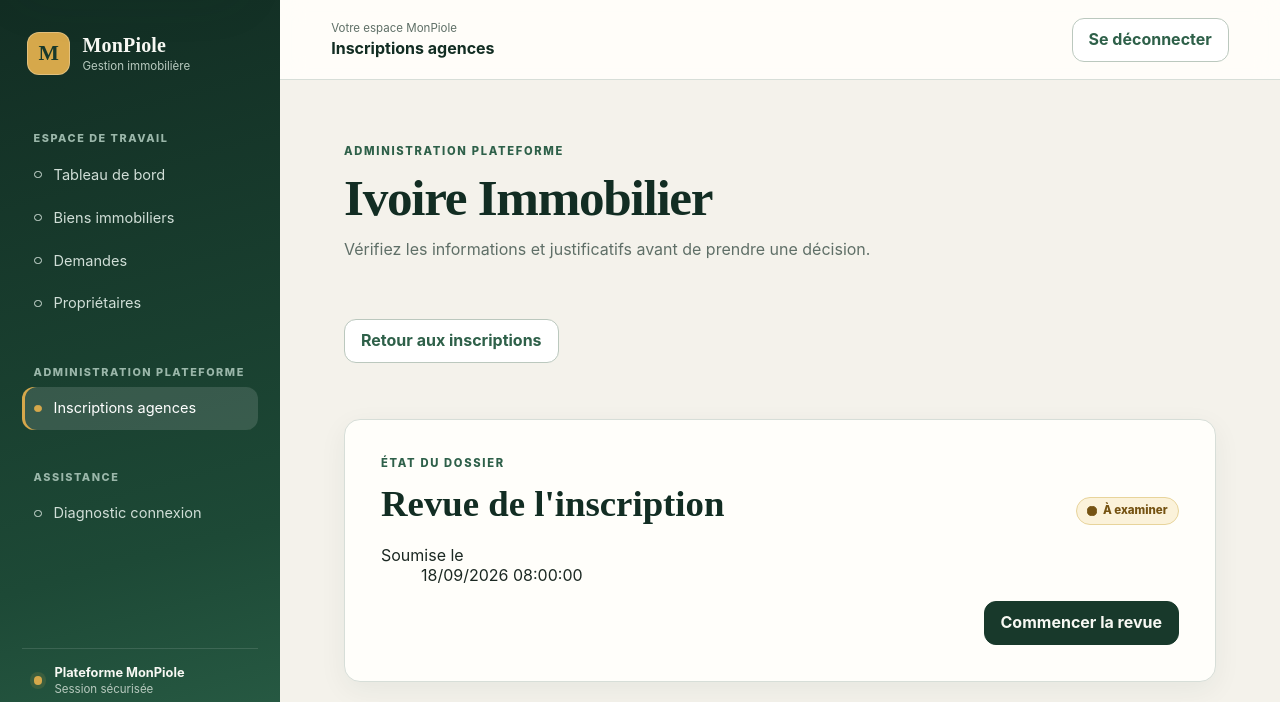
Test case: Revue d'une inscription agence › affiche le dossier soumis et permet de commencer la revue
Expected: the heading "Ivoire Immobilier" is shown, x1=344 y1=169 x2=712 y2=226
Expected: the text "À examiner" is shown, x1=1076 y1=497 x2=1179 y2=525
Click the button "Commencer la revue" at (1081, 623), box x1=984 y1=601 x2=1179 y2=645
(page scrolled)
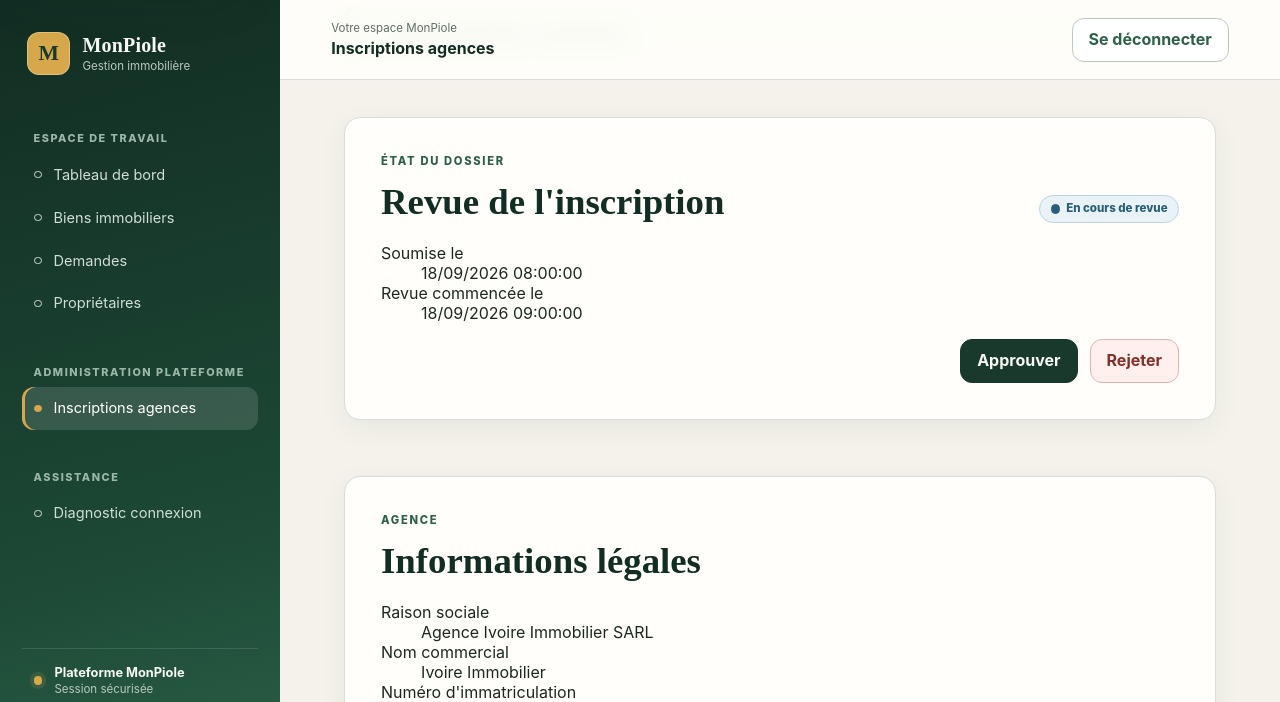
Expected: the text "En cours de revue" is shown, x1=1039 y1=195 x2=1179 y2=223
Expected: the button "Approuver" is shown, x1=960 y1=339 x2=1078 y2=383
Expected: the button "Rejeter" is shown, x1=1090 y1=339 x2=1179 y2=383
